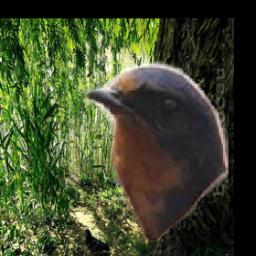Swallow: (82, 60, 229, 242)
